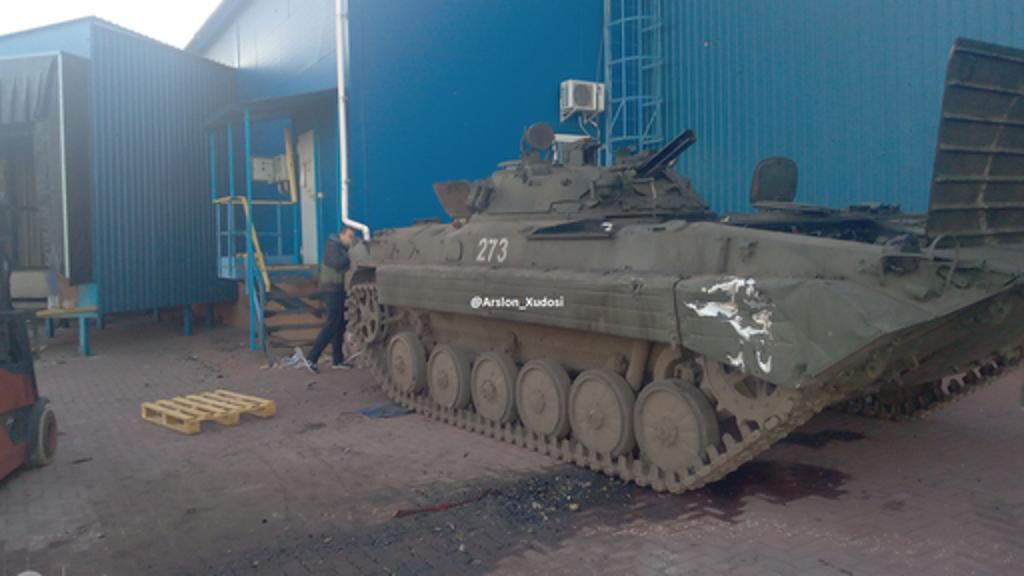APC-IFV: (350, 120, 1022, 498)
